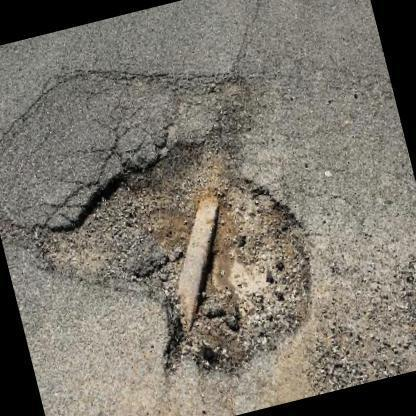pothole: (34, 131, 319, 371)
